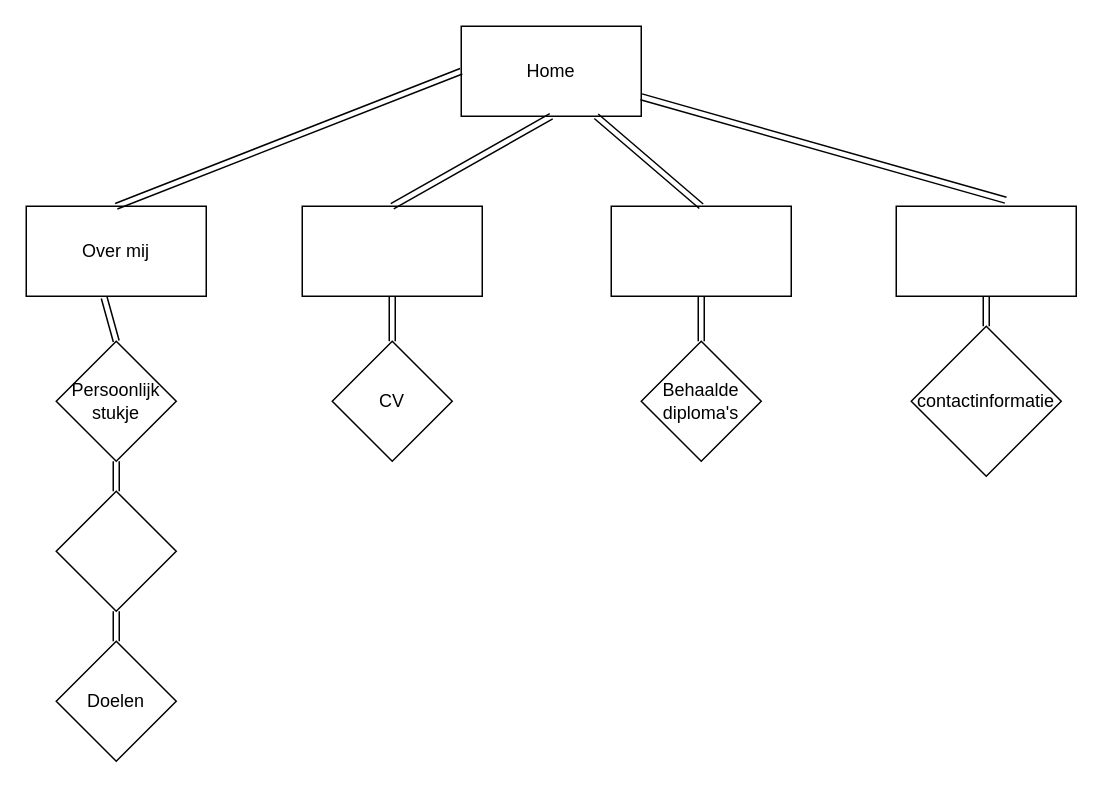
Some shapes in this 1103 by 788 pixel diagram are drawn without their labels. Here are the shapes that lost their labels. From the top down, the centre of each, then its label:
At point 391,250: "Werkervaring".
At point 700,250: "Schoolcarrière".
At point 985,250: "Contact".
At point 115,550: "Hobby's".
